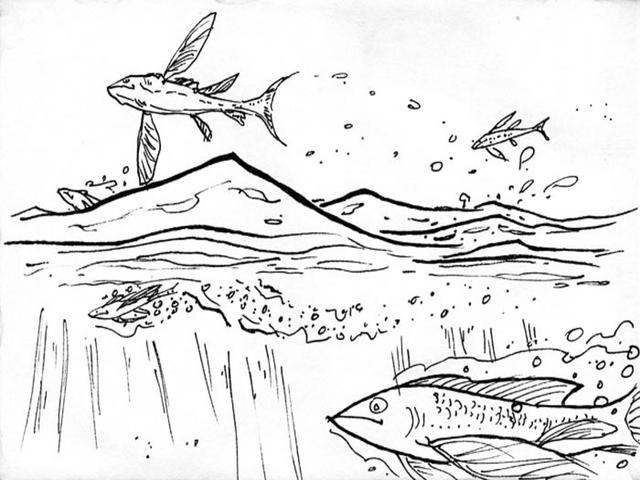fish: (89, 16, 310, 173)
